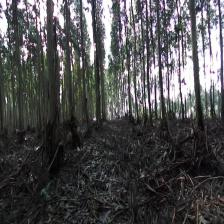trunk: (46, 11, 60, 144), (190, 14, 204, 128), (80, 31, 90, 122), (66, 24, 74, 117), (158, 40, 166, 120), (146, 50, 153, 125)
